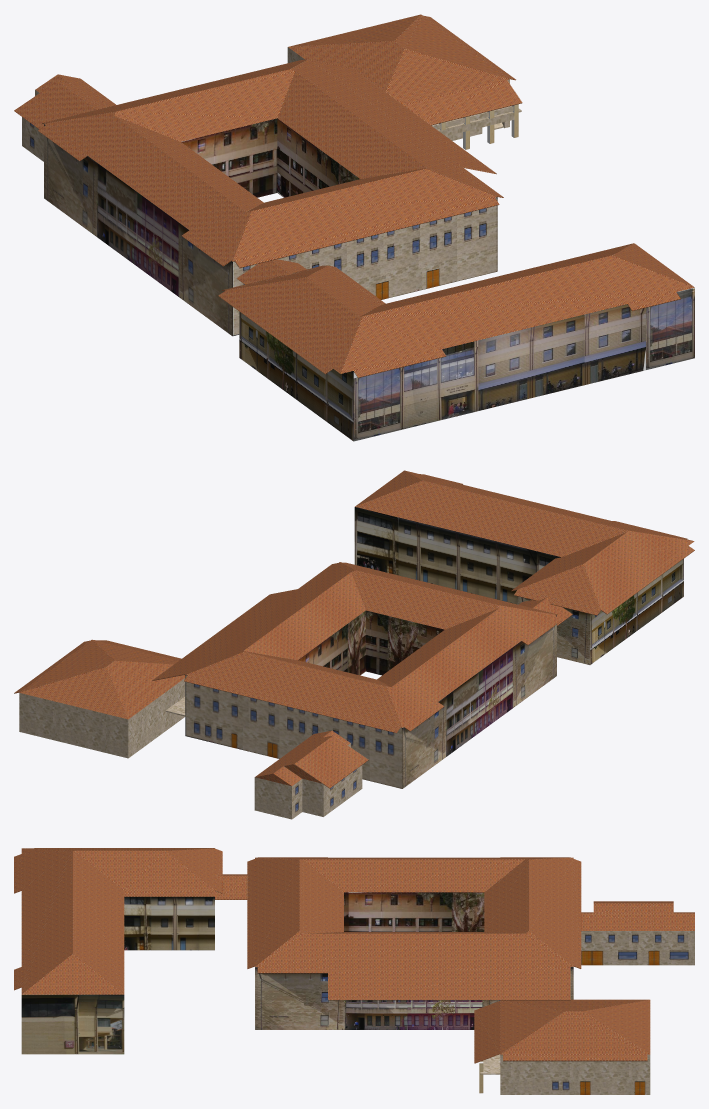
The model's file is Social Science GE.fbx.
3 views of the same model, one above another, from view 1: azimuth 30°, elevation 25°; view 2: azimuth 150°, elevation 25°; view 3: azimuth 270°, elevation 25° (orthographic). The views are drawn at different scales.
Visible parts, largest first — view 1: Group1, Model, SocialSciencesLOD_3c_dwg1, Group_21; view 2: Group1, Model, SocialSciencesLOD_3c_dwg1, Group_21; view 3: Group1, Model, SocialSciencesLOD_3c_dwg1, Group_21, Group2.
Part boxes in pixels (<box>): Group1: <box>14,14,694,377</box>; Model: <box>44,118,694,441</box>; SocialSciencesLOD_3c_dwg1: <box>287,47,521,140</box>; Group_21: <box>22,90,43,161</box>; Group1: <box>14,470,694,788</box>; Model: <box>185,507,683,788</box>; SocialSciencesLOD_3c_dwg1: <box>19,678,193,758</box>; Group_21: <box>254,743,362,819</box>; Group1: <box>14,848,694,1063</box>; Model: <box>21,892,573,1054</box>; SocialSciencesLOD_3c_dwg1: <box>480,1054,650,1094</box>; Group_21: <box>581,931,694,965</box>; Group2: <box>124,890,214,896</box>.
Bounding box in the file's own units: 69964 × 13540 × 104271.
